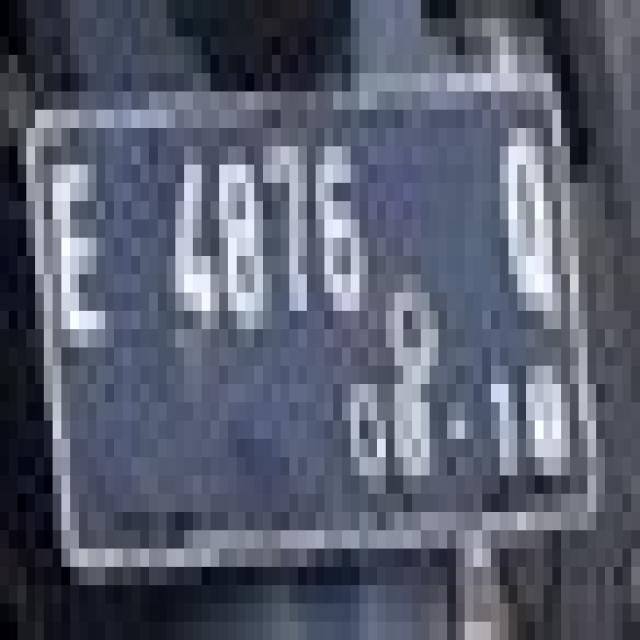plate: (9, 73, 587, 530)
